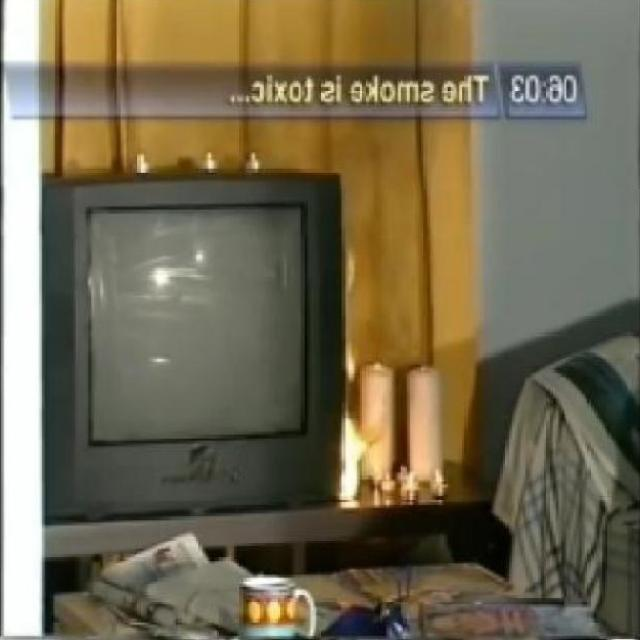smoke: (337, 243, 370, 503)
